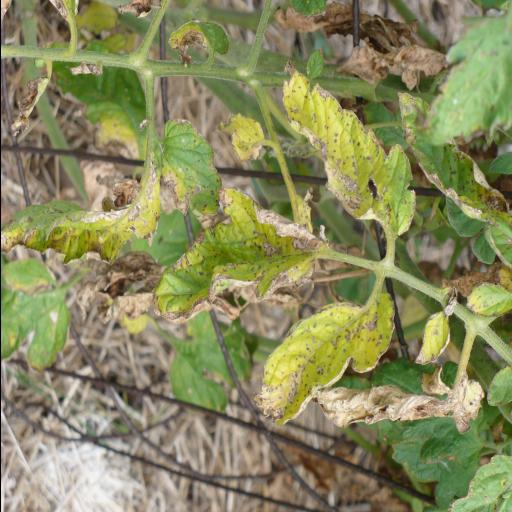Septoria: (0, 118, 224, 268), (272, 54, 418, 250), (150, 184, 316, 330), (253, 290, 397, 428), (396, 87, 512, 229), (421, 0, 512, 148), (445, 454, 512, 512), (216, 112, 266, 164), (410, 312, 452, 366), (464, 279, 512, 320)
